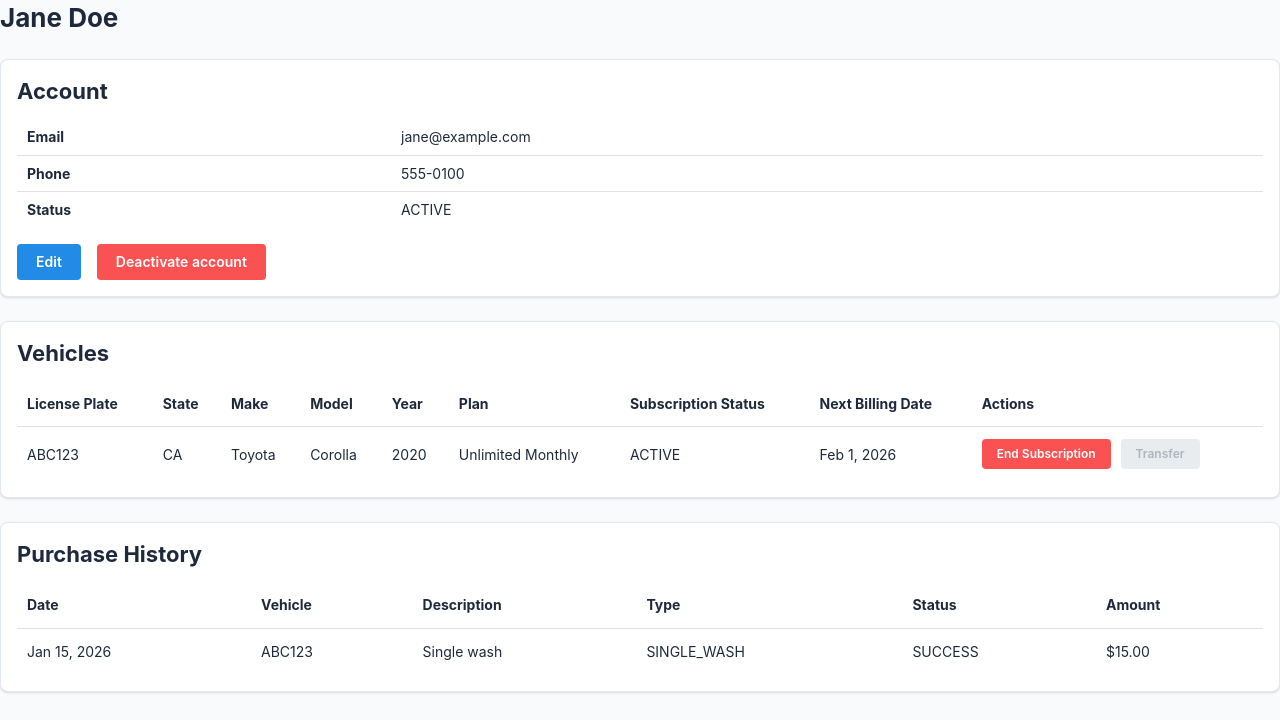
Test: UserProperties › deactivating and reactivating an account › asks for confirmation before deactivating the account
Expected: the heading "Jane Doe" is shown, 0,2 -> 118,33
Click the button "Deactivate account": (181, 262) 97,244 -> 266,280
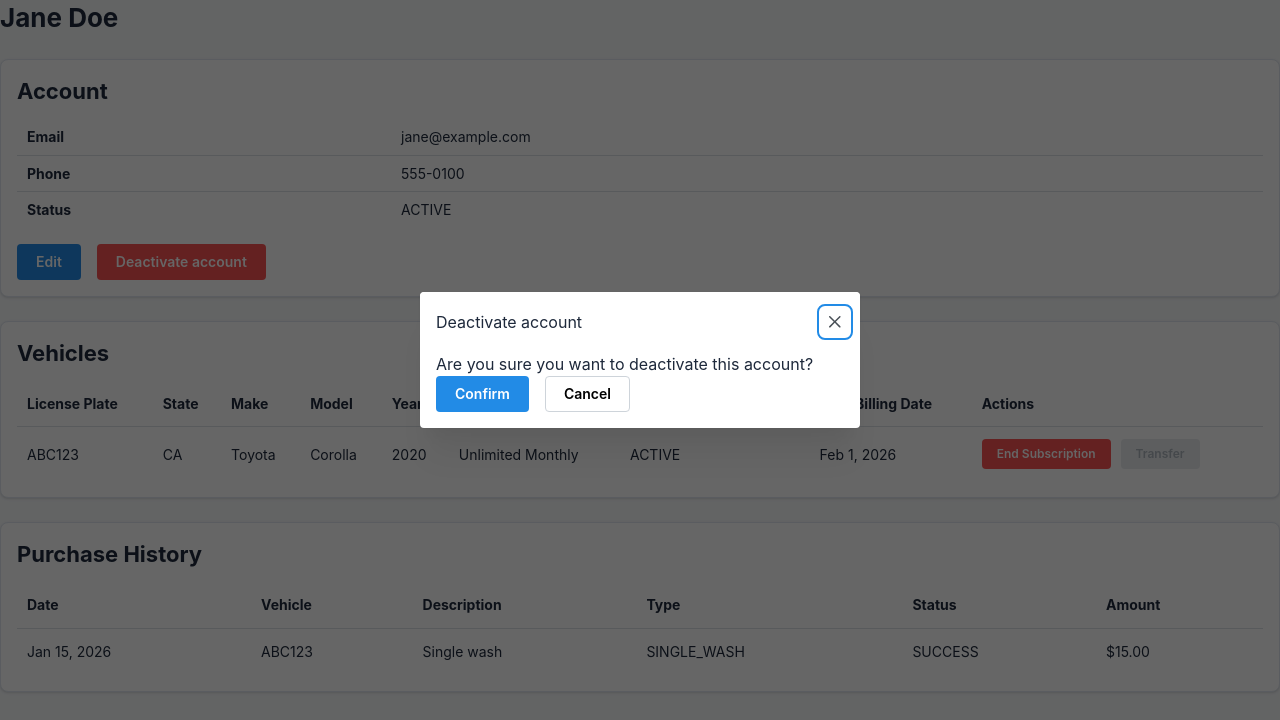
Now the text "Are you sure you want to deactivate this account?" is shown, box 436,352 -> 844,376
